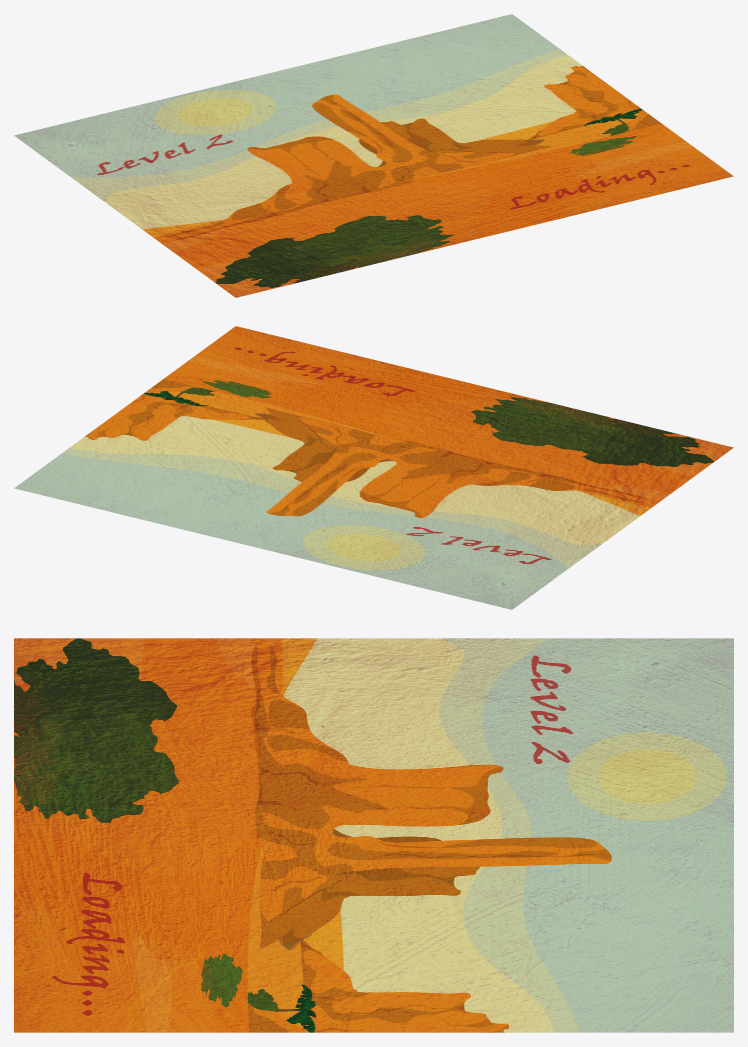
Rendered from level2.obj.
The picture shows the model from 3 angles, top to bottom: view 1: azimuth 30°, elevation 25°; view 2: azimuth 150°, elevation 25°; view 3: azimuth 270°, elevation 25°; orthographic projection. The views are drawn at different scales.
Parts seen in each view (by area): view 1: Plane001; view 2: Plane001; view 3: Plane001.
Part boxes in pixels (box(x1,y1,x2,y2)): Plane001: box(14, 14, 733, 297); Plane001: box(14, 326, 733, 609); Plane001: box(14, 638, 733, 1032).
Size of the model in its own units: 148 by 0 by 114.
